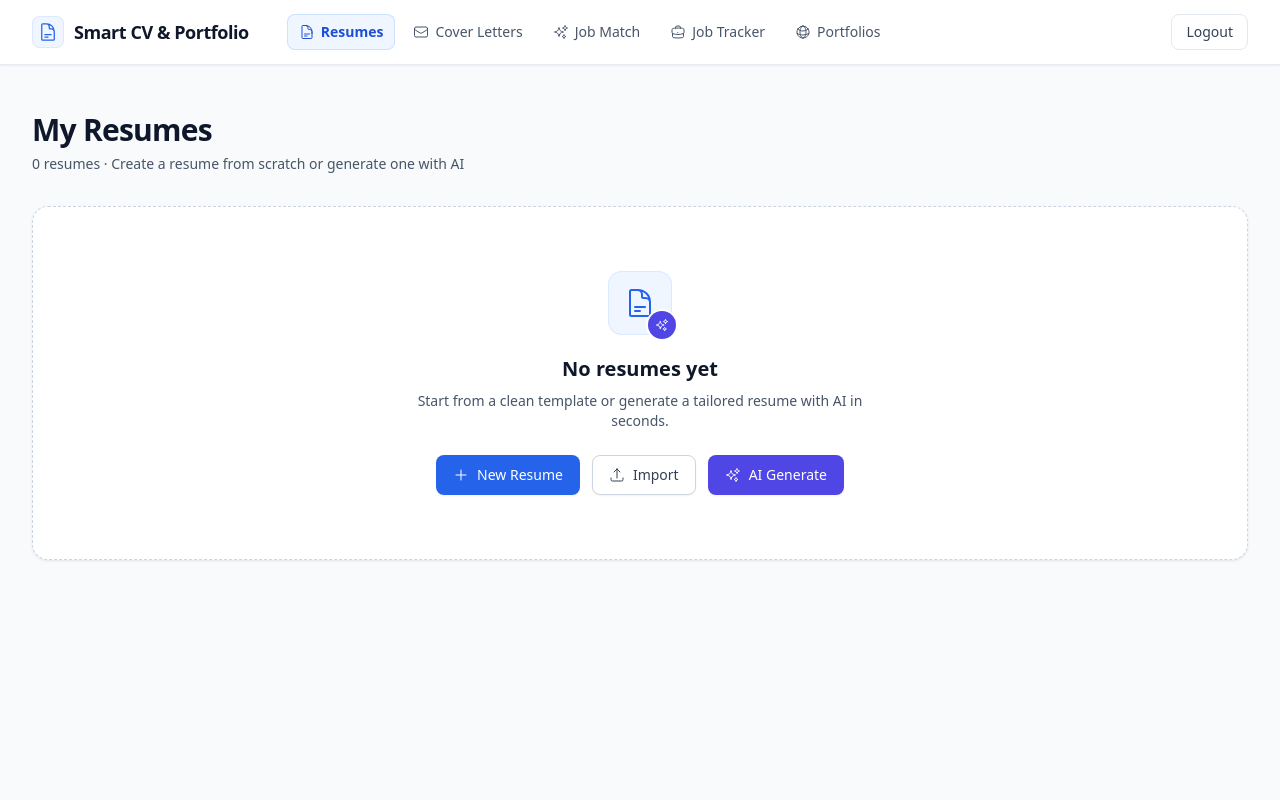
Test case: AI Resume Generation Flow › HomePage handleAIGeneration integration › uses fallback basics (Your Name / you@example.com) when user prop is omitted and opens editor with generated resume
The width and height of the screenshot is (1280, 800).
Click the button "AI Generate". click: click(776, 475)
box: [708,455,844,495]
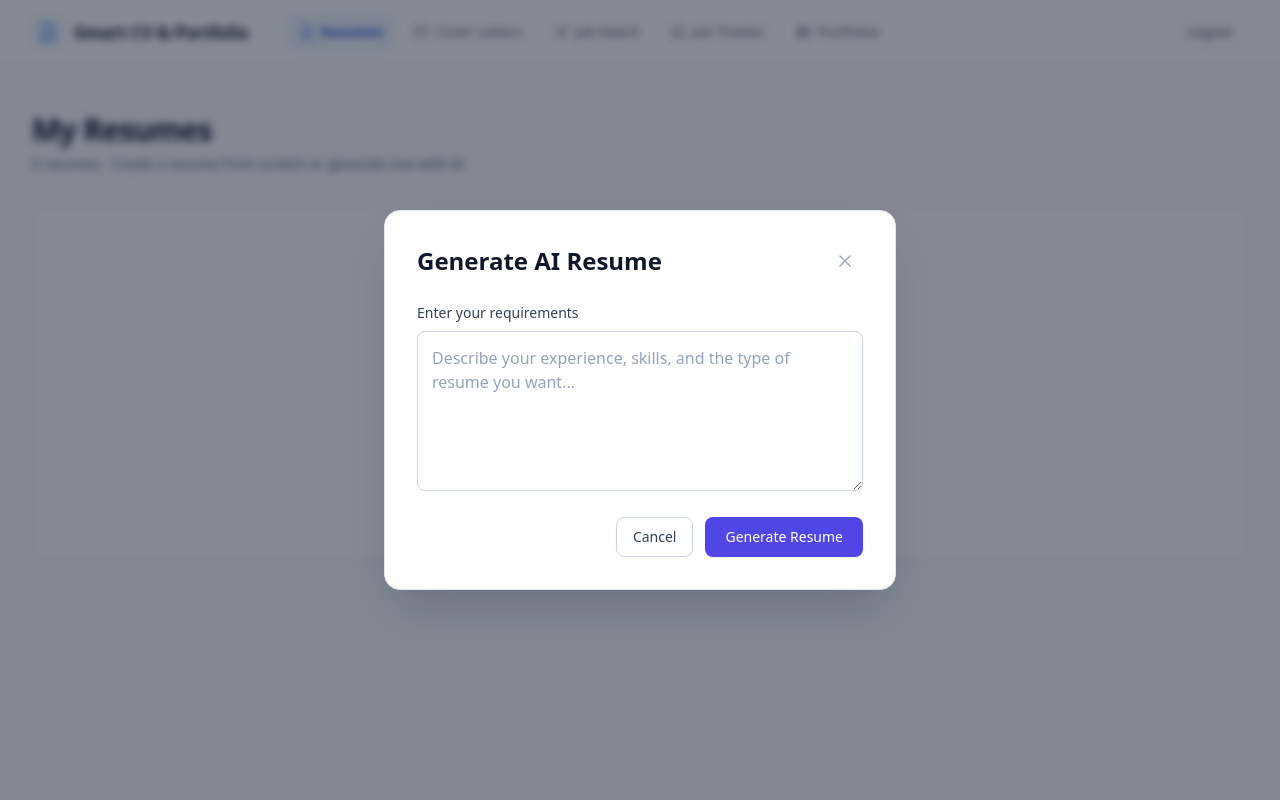
Replace the text in the text box labelled "Enter your requirements" with "Staff Backend Engineer specializing in Go and Kubernetes". click: (640, 411)
box: [417,331,863,491]
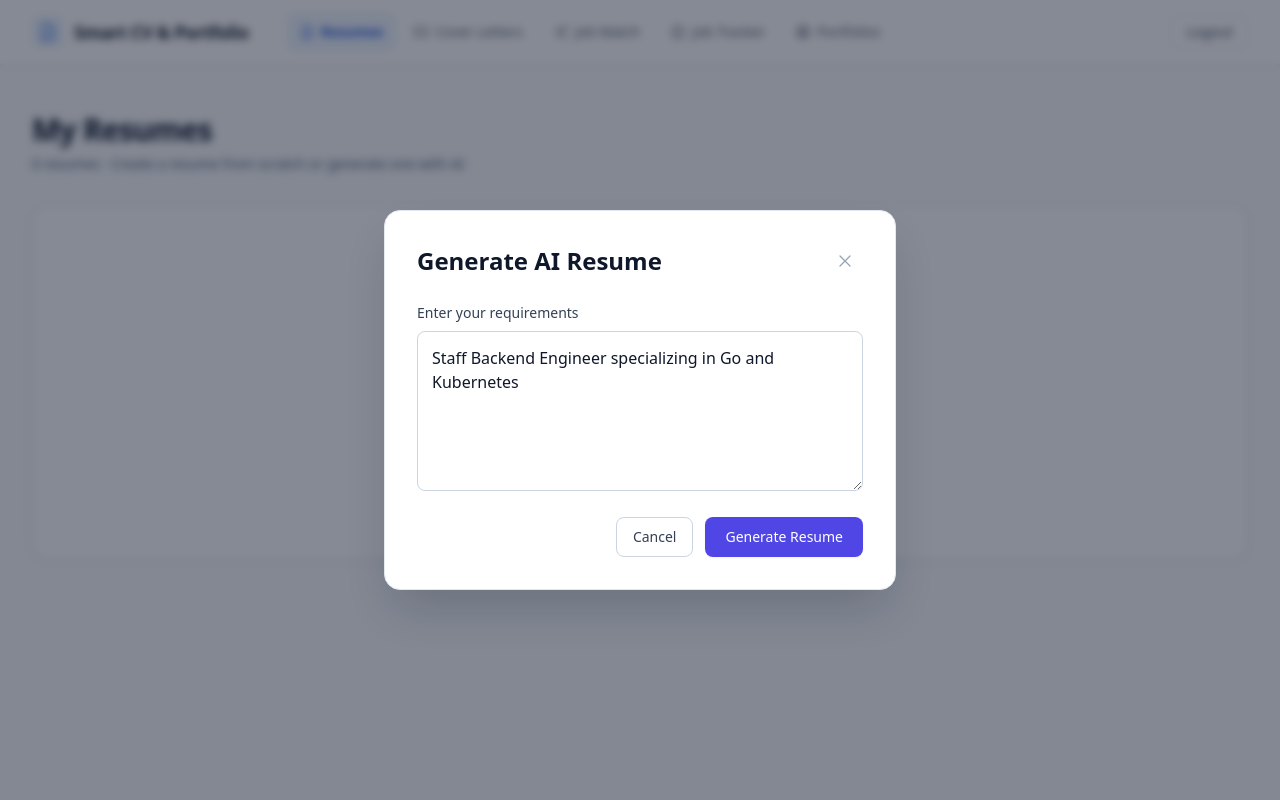
Click the button "Generate Resume". click: click(784, 537)
box: [706,517,863,557]
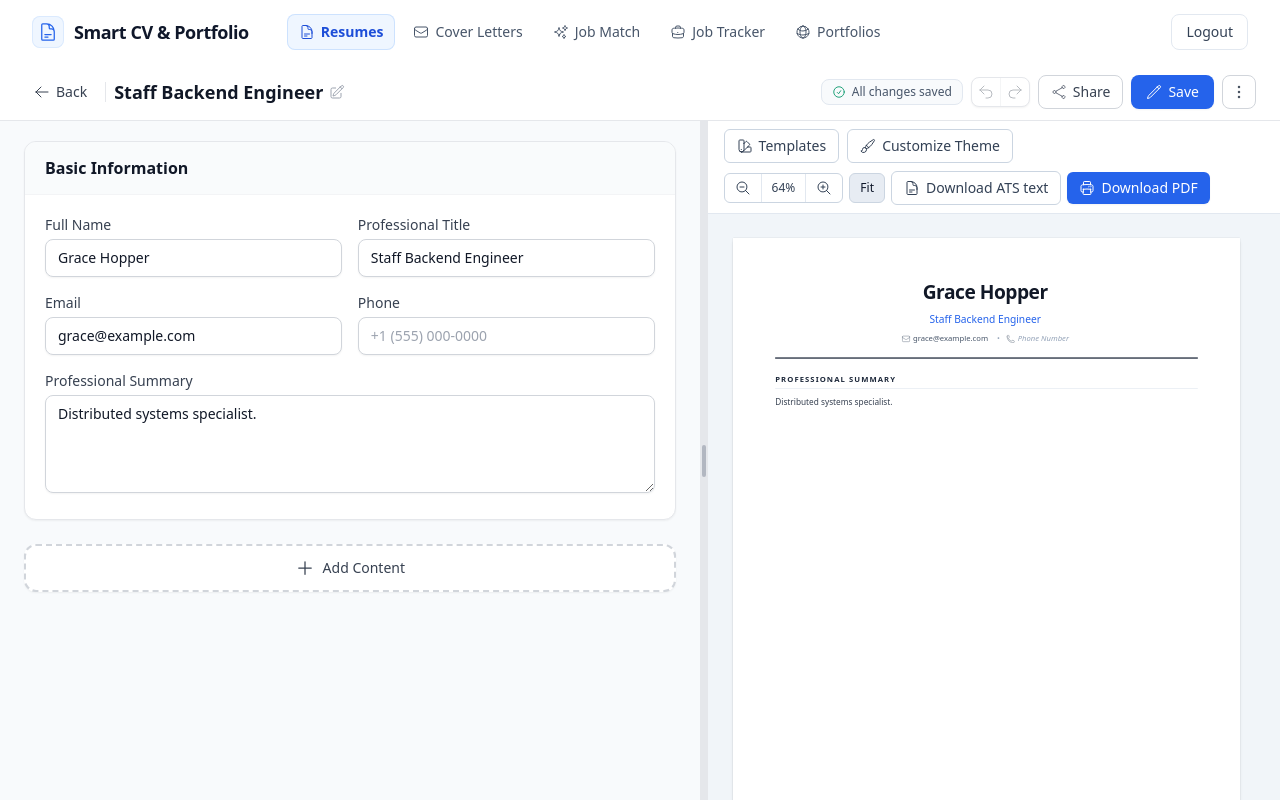
Now the button "Grace Hopper" is shown, box [922,279,1047,305]
